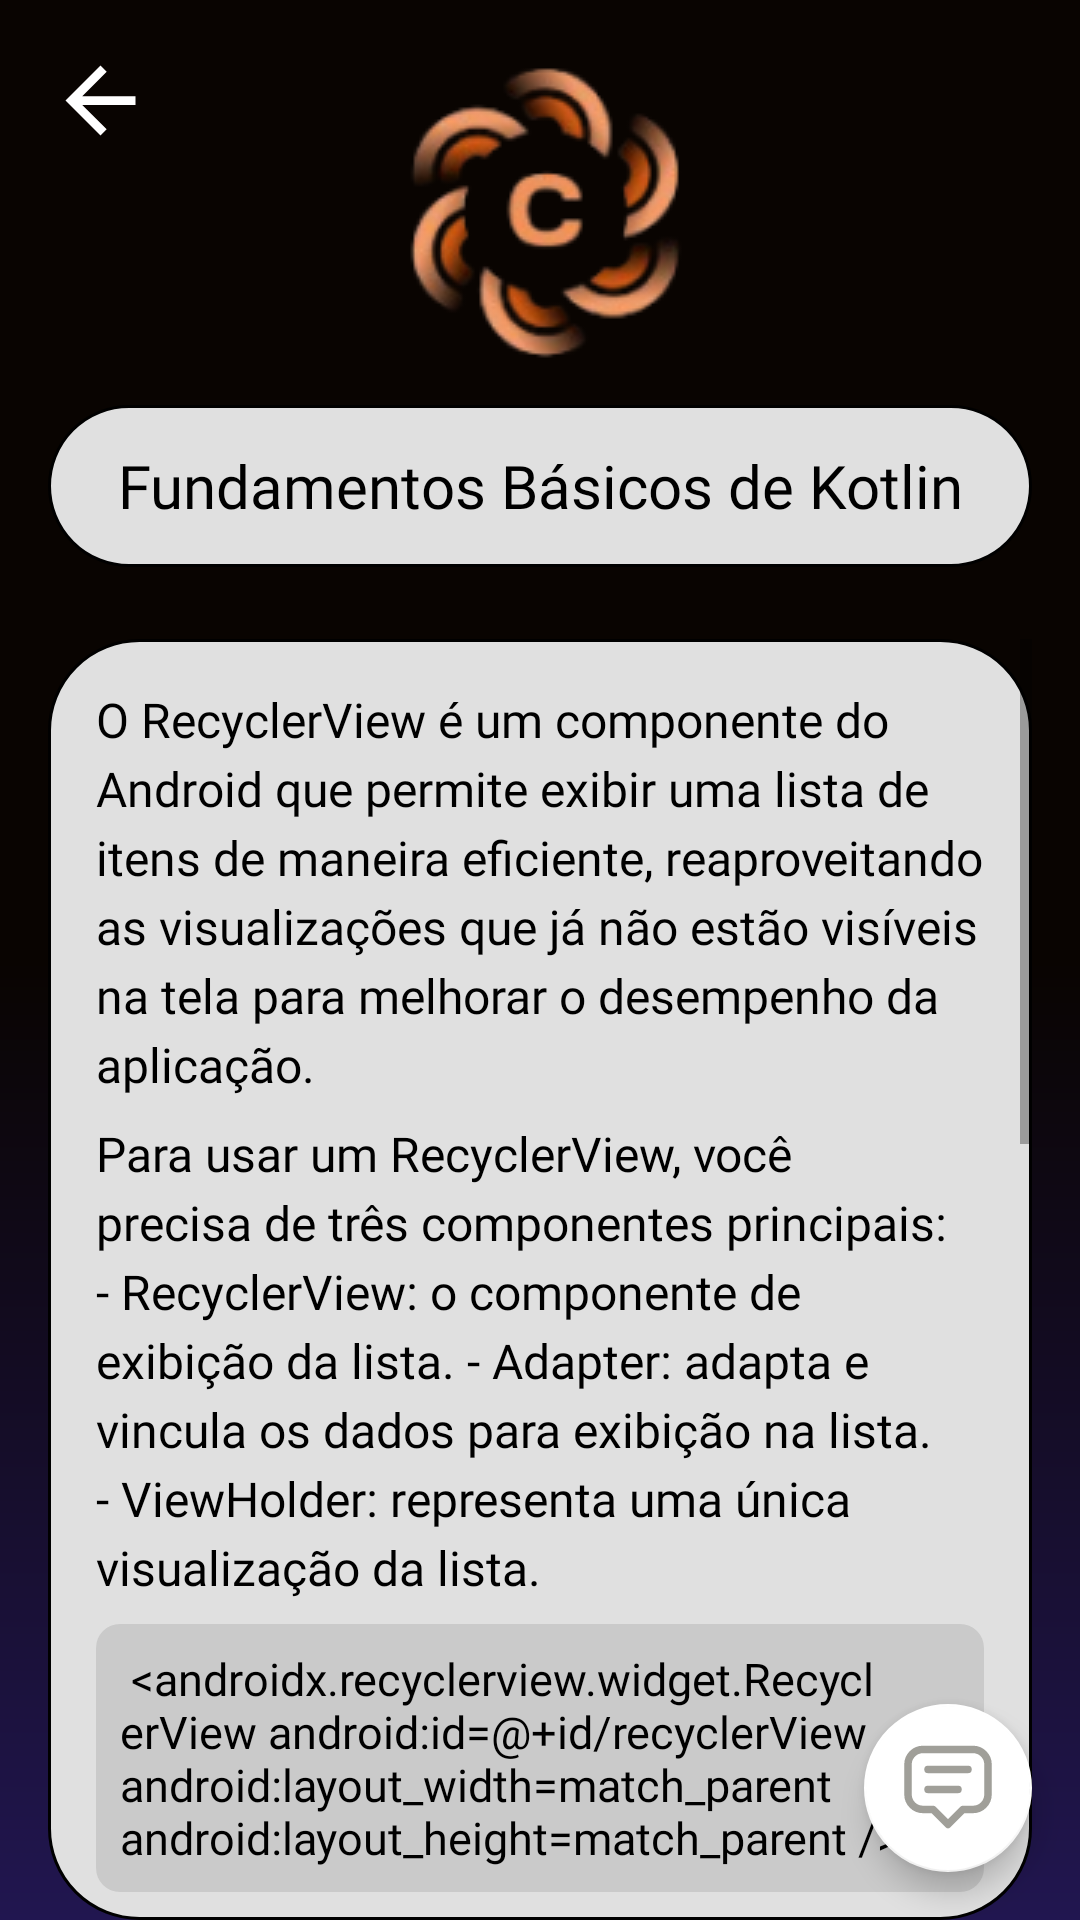

Named icons in this screenshot (1080*1920) and their centers, point (x, y):
Botão para abrir o chat de IA: point (948, 1788)
Voltar: point (100, 100)
